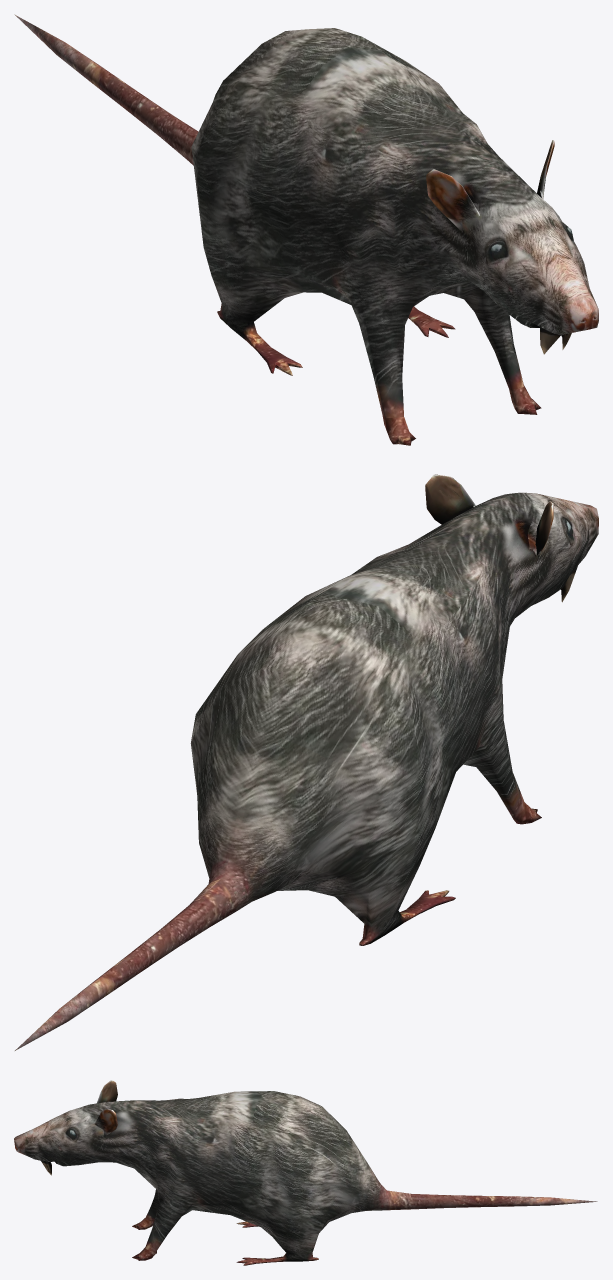
The model's file is rat_3D.glb.
The picture shows the model from 3 angles, top to bottom: view 1: azimuth 30°, elevation 25°; view 2: azimuth 150°, elevation 25°; view 3: azimuth 270°, elevation 25°; orthographic projection. The views are drawn at different scales.
Visible parts, largest first — view 1: ratlow; view 2: ratlow; view 3: ratlow.
Part boxes in pixels (x1,y1,x2,y2): ratlow: (14, 14, 598, 445); ratlow: (15, 474, 598, 1050); ratlow: (14, 1080, 597, 1265).
Bounding box in the file's own units: 1.21 × 1.53 × 5.44.
Materials: 1 (1 with a texture image).
